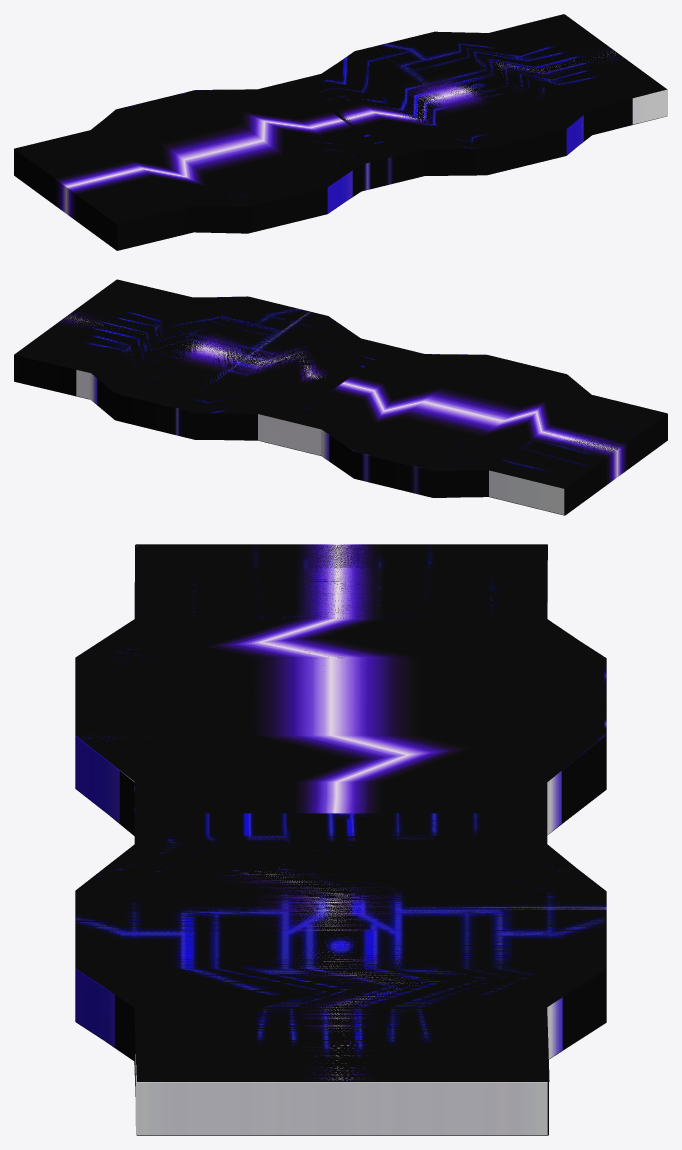
Rendered from monlythlightbridge.fbx.
3 views of the same model, one above another, from view 1: azimuth 30°, elevation 25°; view 2: azimuth 150°, elevation 25°; view 3: azimuth 270°, elevation 25° (orthographic). The views are drawn at different scales.
Parts seen in each view (by area): view 1: Geoset_3, Geoset_0, Geoset_2, Geoset_1; view 2: Geoset_3, Geoset_2, Geoset_0, Geoset_1; view 3: Geoset_3, Geoset_0, Geoset_2, Geoset_1.
Part boxes in pixels (x1,y1,x2,y2): Geoset_3: (14,18,665,250); Geoset_0: (20,14,666,203); Geoset_2: (107,14,667,250); Geoset_1: (209,15,667,213); Geoset_3: (14,281,667,515); Geoset_2: (14,279,666,497); Geoset_0: (17,279,662,488); Geoset_1: (14,279,564,514); Geoset_3: (75,544,604,1134); Geoset_0: (75,544,604,1081); Geoset_2: (77,545,606,1135); Geoset_1: (75,603,602,1134).
Bounding box in the file's own units: 12.79 × 0.5944 × 5.34.
Materials: 4 (4 with a texture image).
